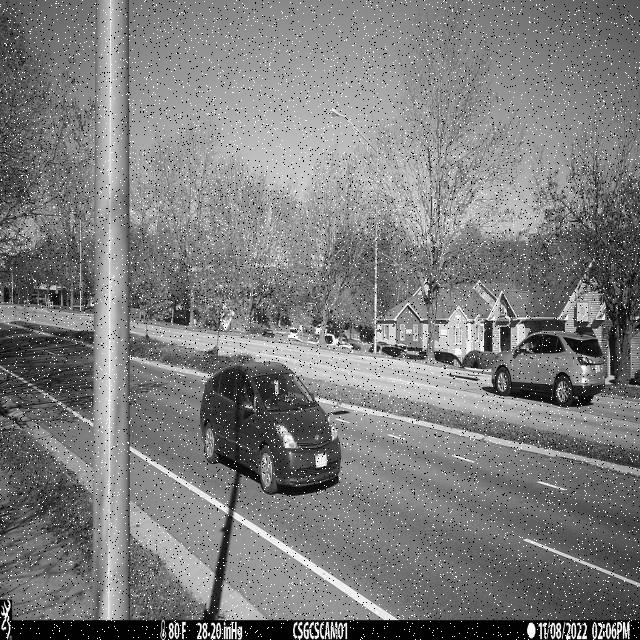Hatchback: (199, 361, 344, 495)
